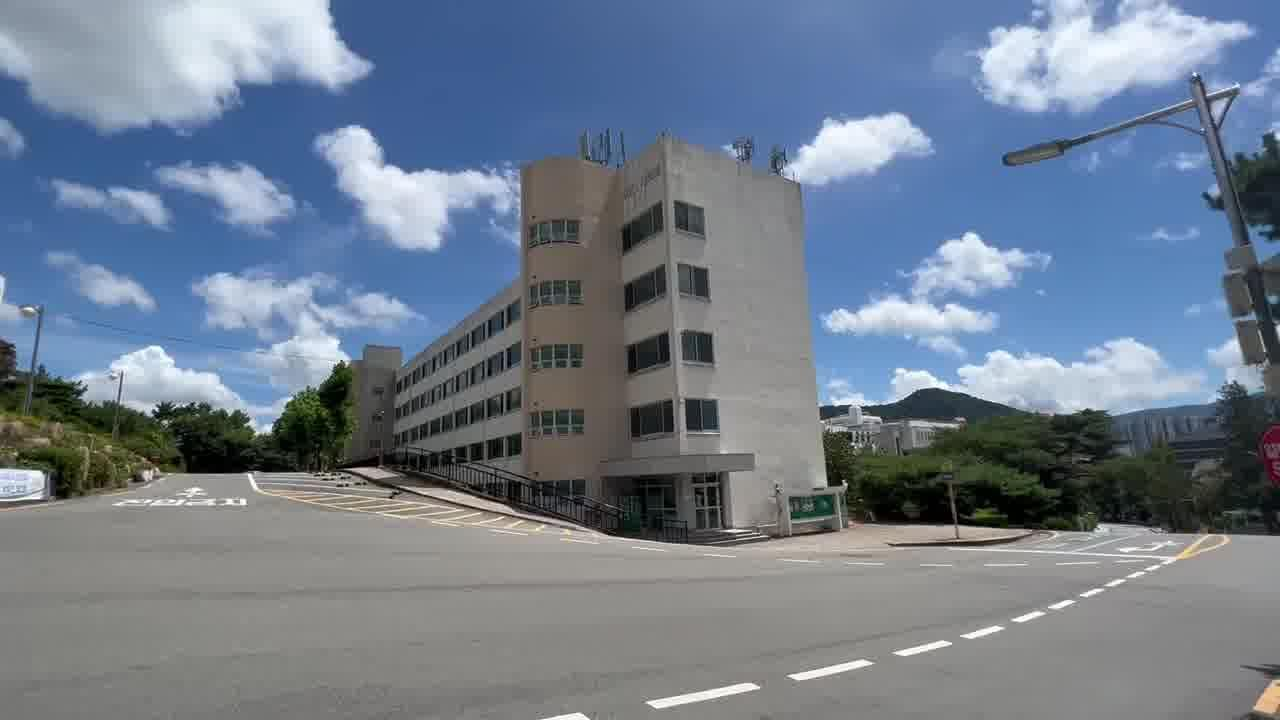building: (399, 150, 831, 507)
